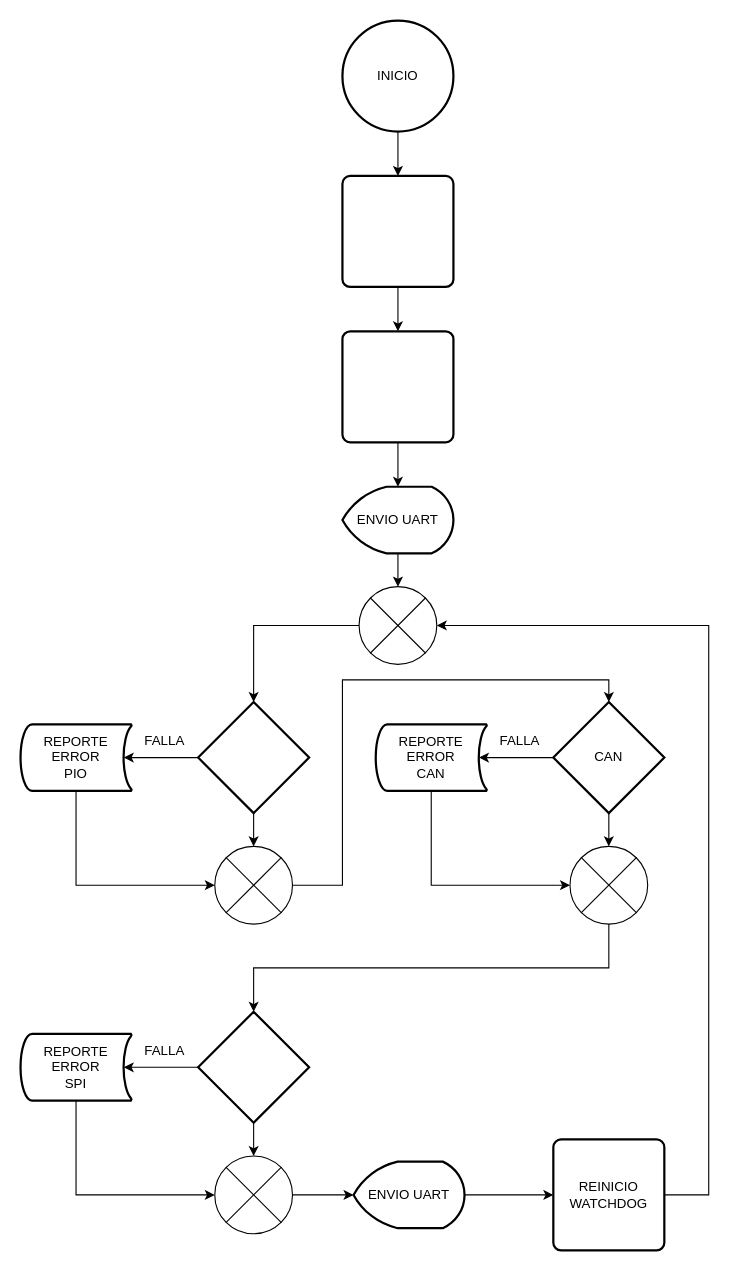
The diagram is 737 pixels wide and 1270 high, and some of its shapes have lost their labels. The shapes that lost their labels are listed below. From the top down, each one's box as (x1, y1, x2, y2) in pixels, then its label:
(341, 174, 454, 287): INICIALIZACIÓN DE PERIFÉRICOS
(341, 330, 454, 443): REPORTE DE ERROR WATCHDOG
(196, 700, 310, 814): PIO
(196, 1010, 310, 1123): SPI
